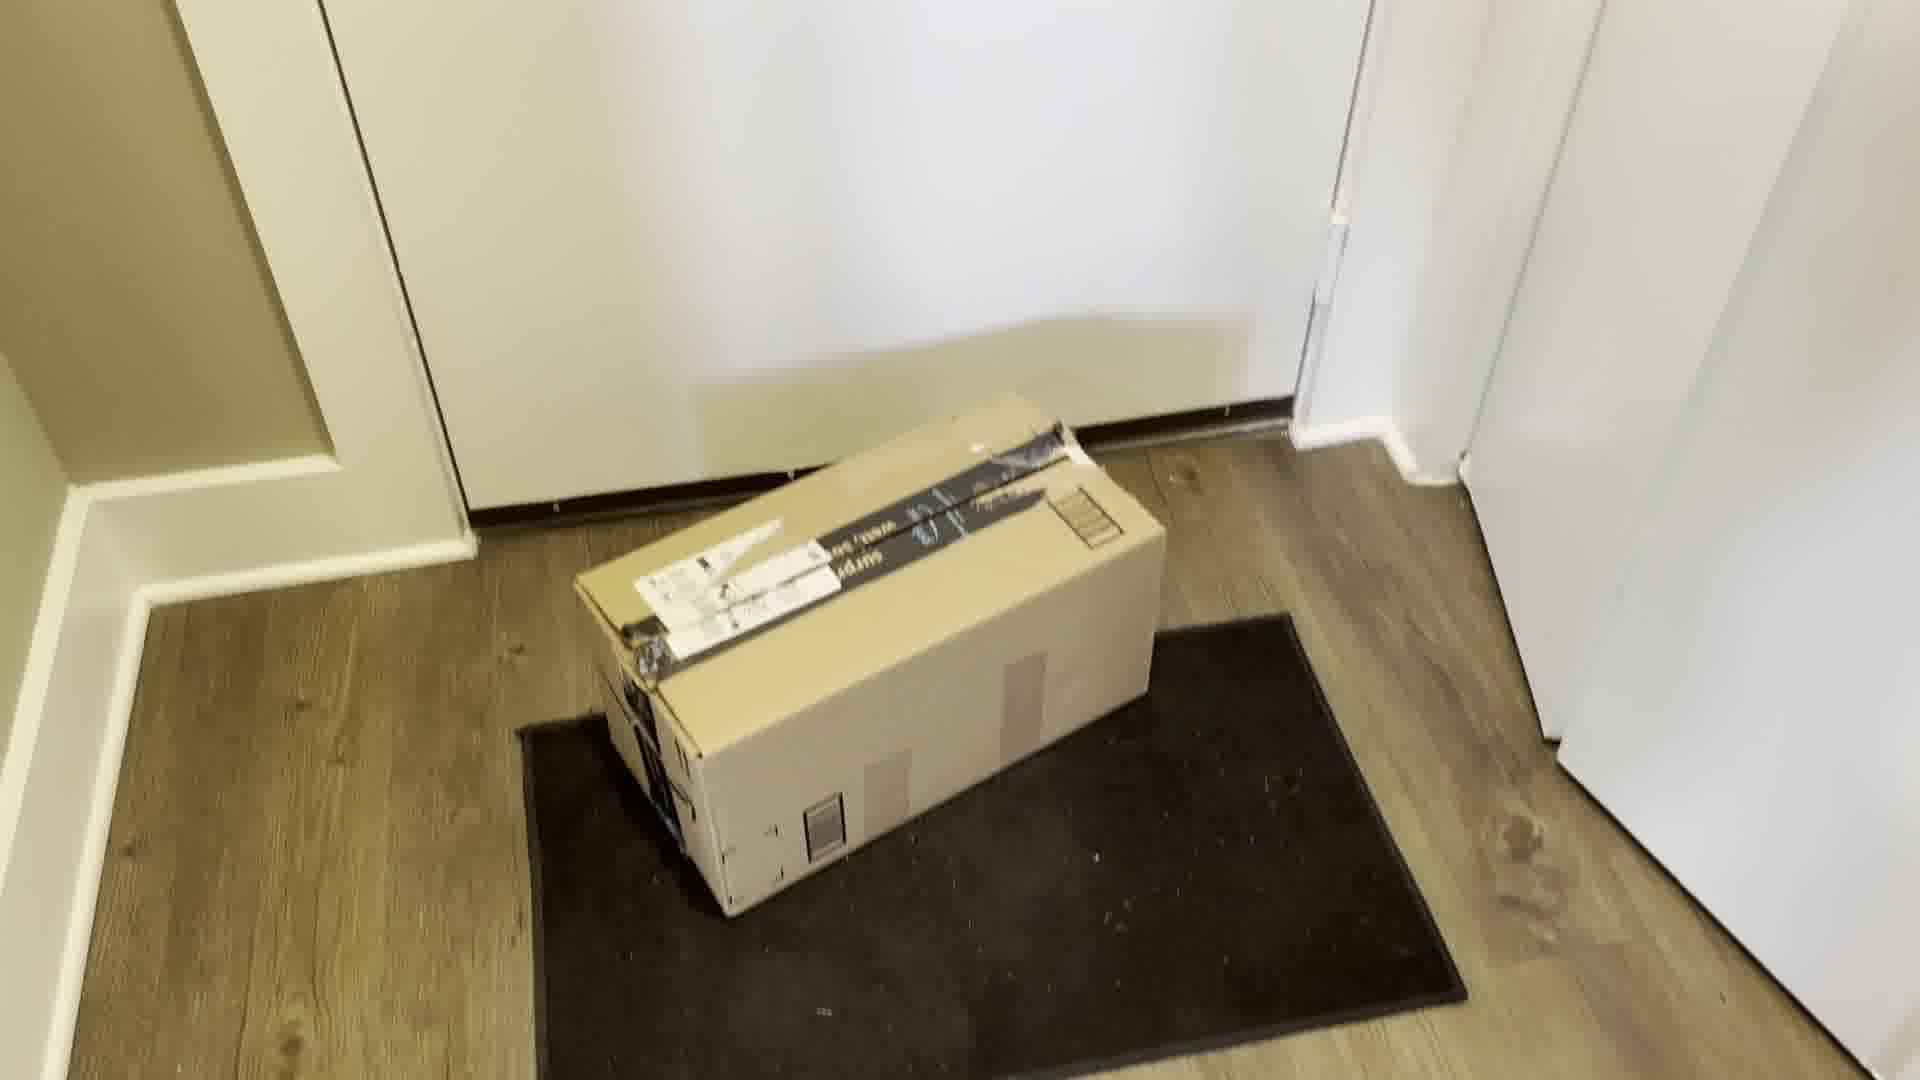box: (589, 404, 1164, 901)
